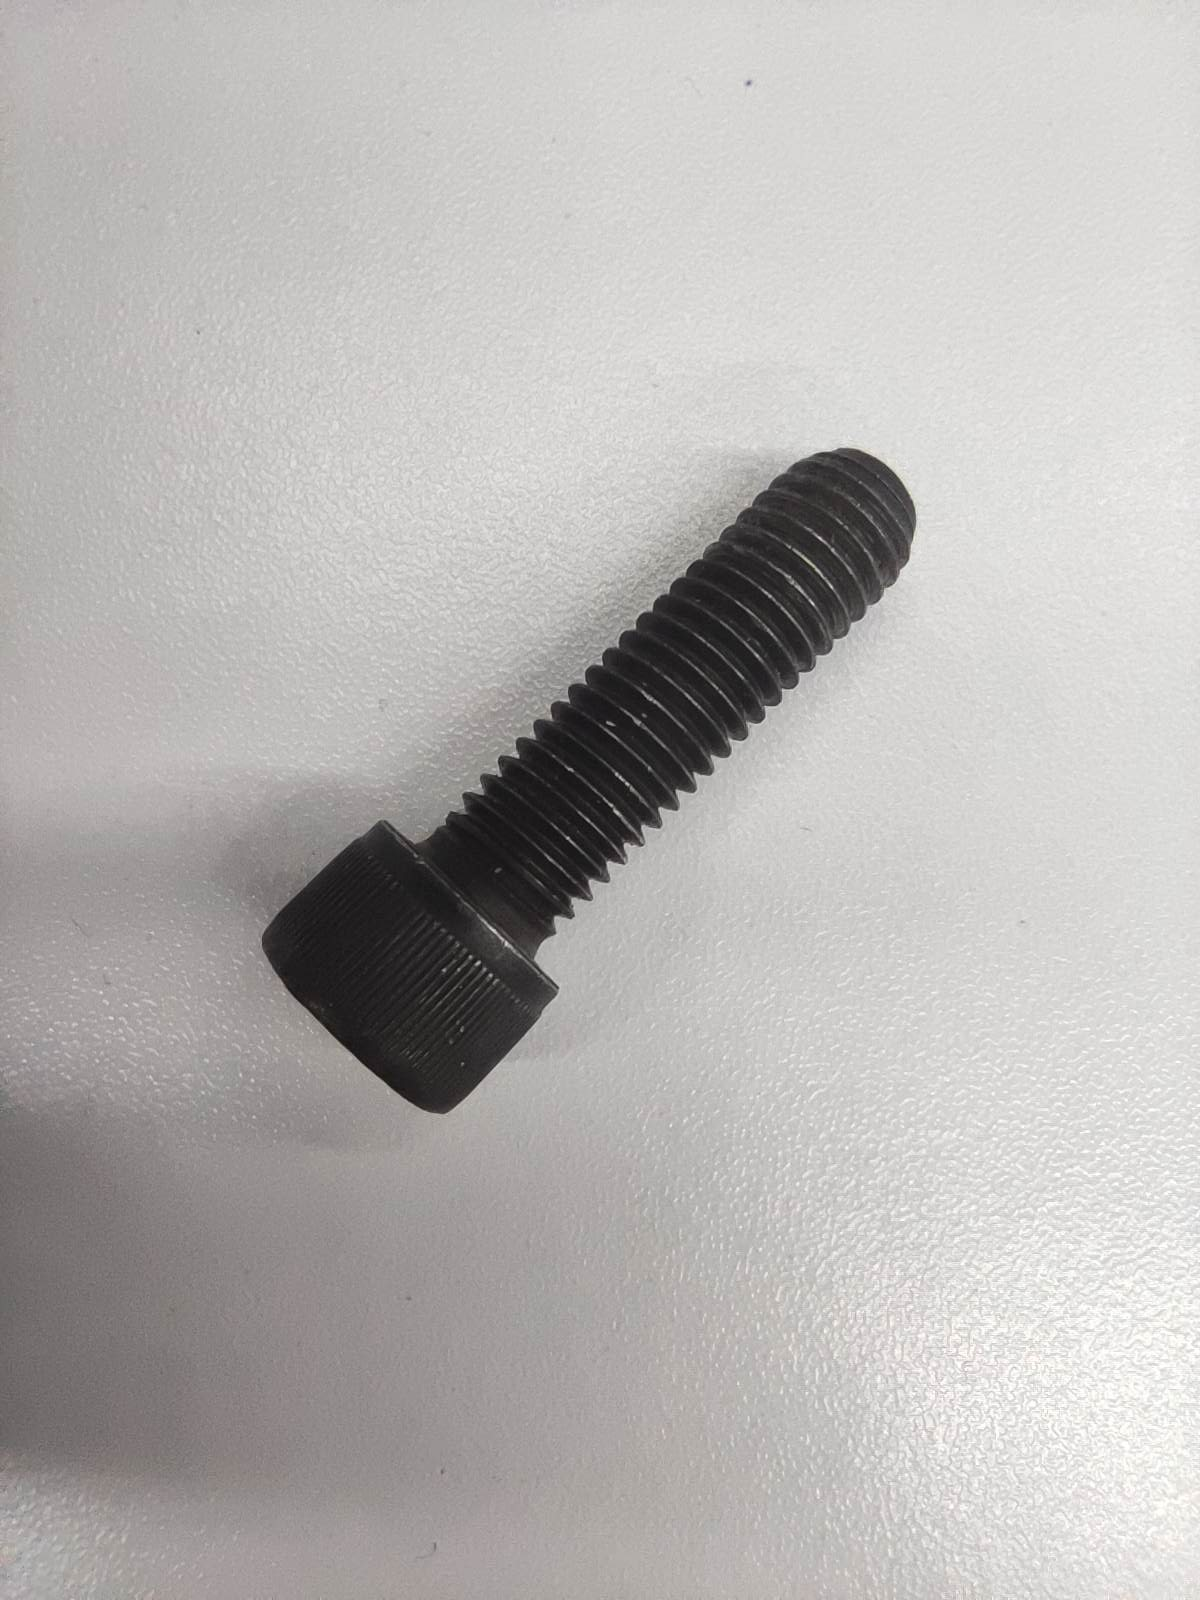螺钉: (261, 446, 918, 1116)
